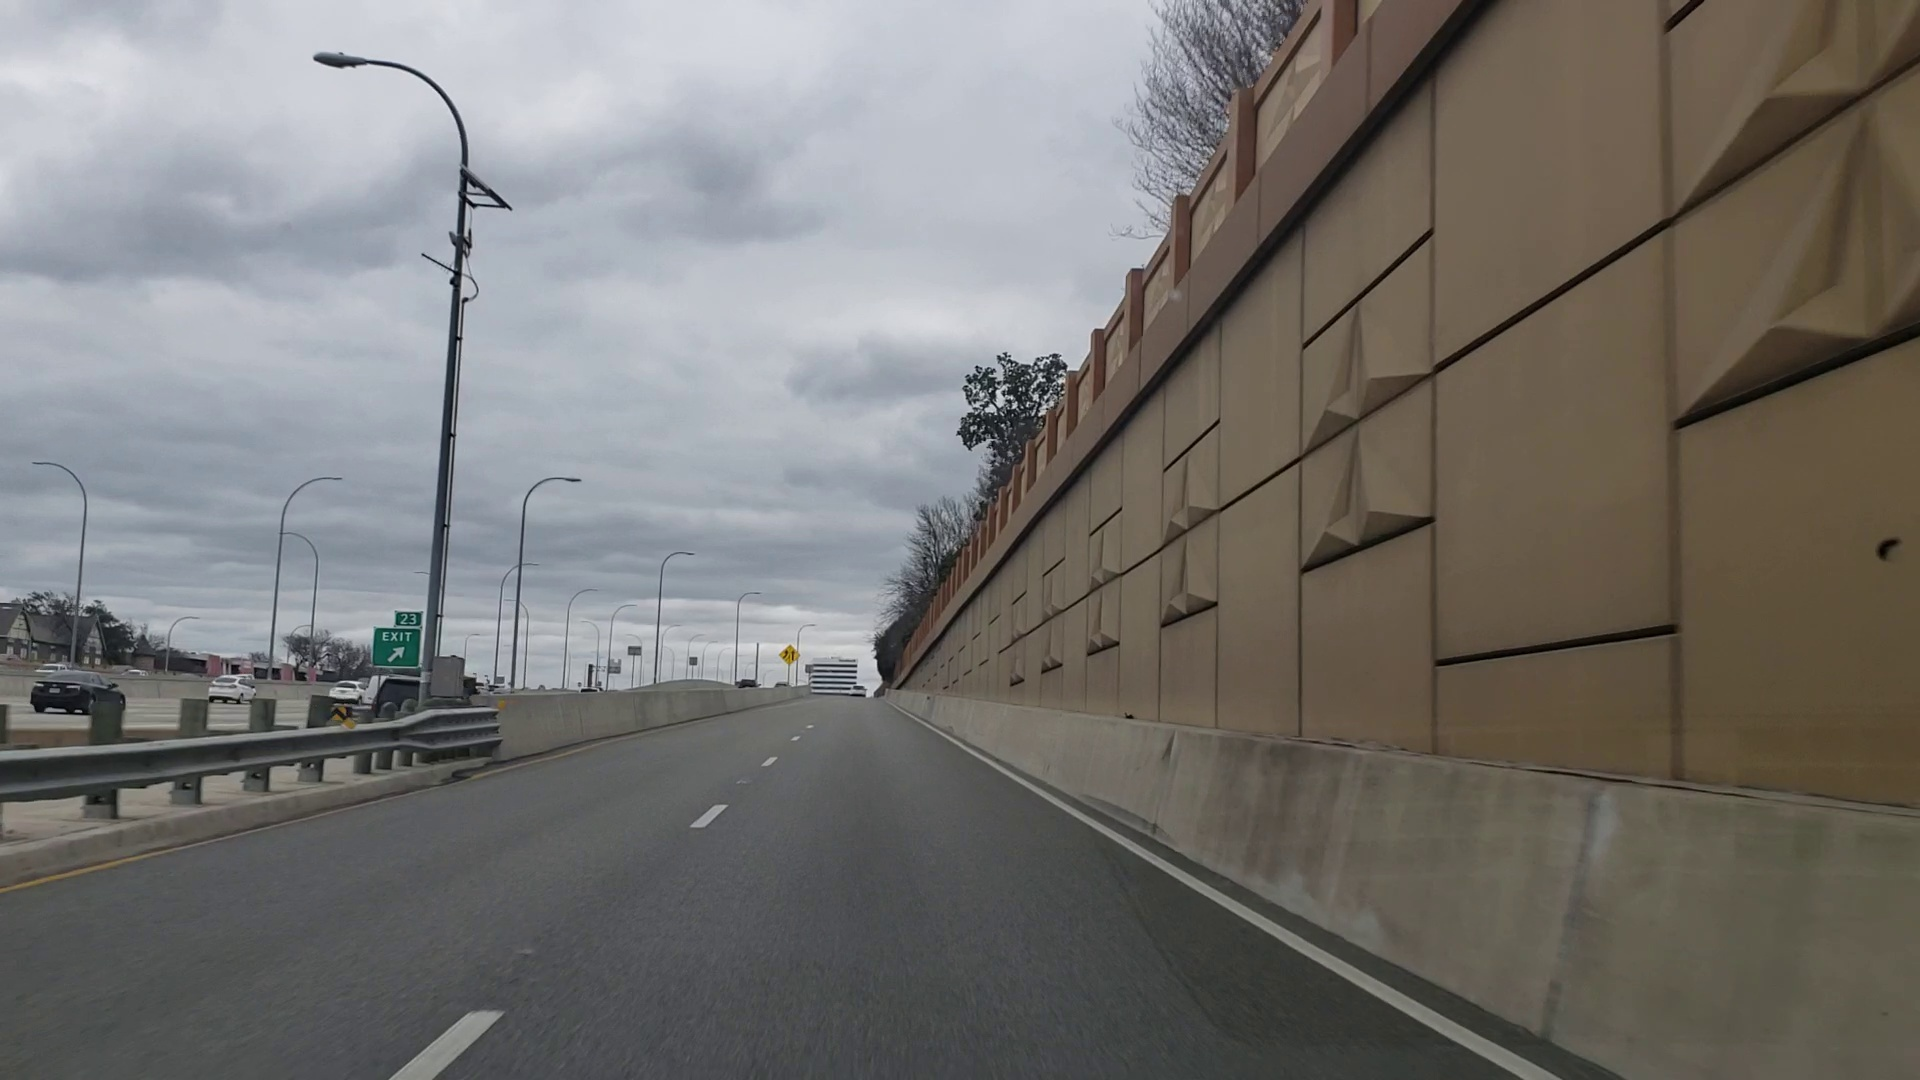car: (25, 673, 131, 719), (200, 678, 255, 709), (324, 675, 367, 708)
